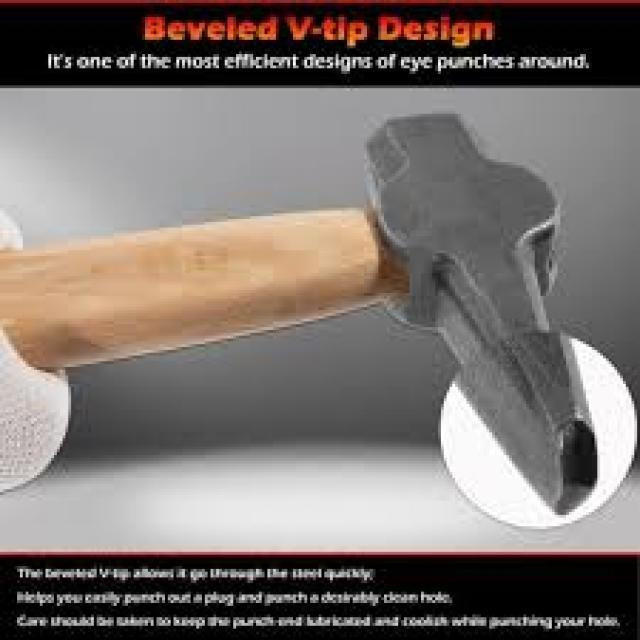hammer: (0, 106, 603, 528)
